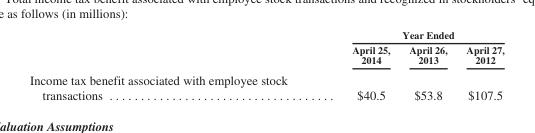table: (28, 28, 503, 101)
table column: (28, 28, 319, 101), (319, 28, 399, 101), (399, 28, 456, 101), (456, 28, 503, 101)
table column header: (28, 28, 503, 68)
table row: (28, 68, 503, 101), (28, 42, 503, 68), (28, 28, 503, 42)
table spanning cell: (319, 28, 503, 42)
